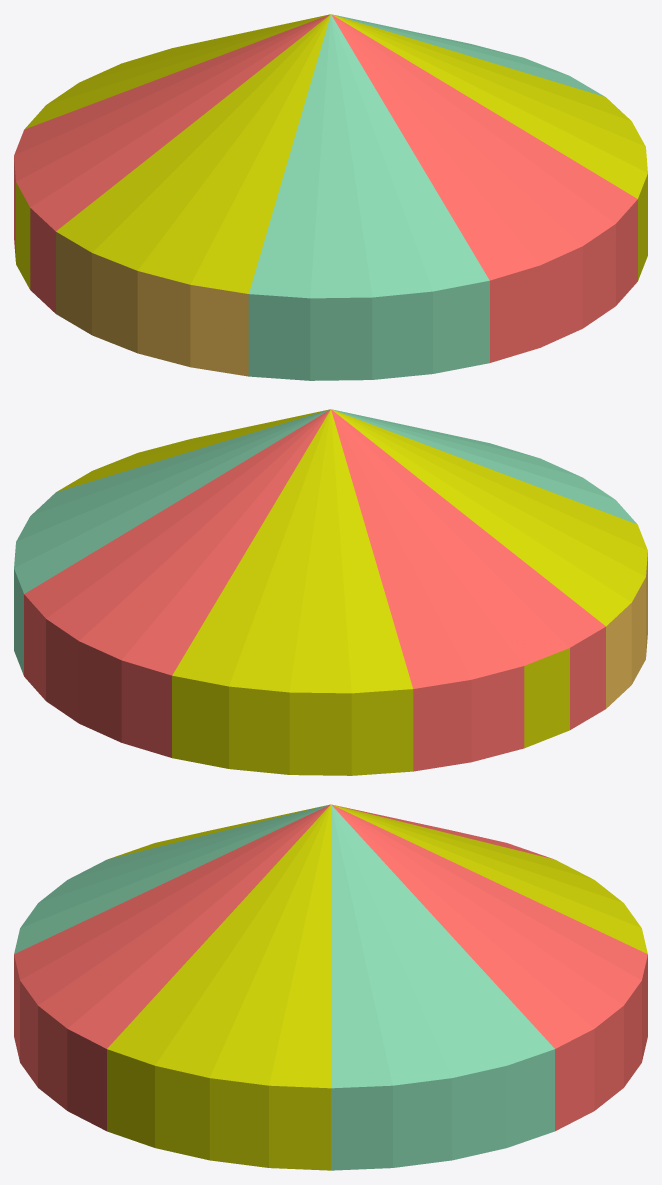
3 renders of one model, top to bottom at view 1: azimuth 30°, elevation 25°; view 2: azimuth 150°, elevation 25°; view 3: azimuth 270°, elevation 25°, orthographic.
Visible parts, largest first — view 1: Cylinder; view 2: Cylinder; view 3: Cylinder.
Part boxes in pixels (x1,y1,x2,y2): Cylinder: (14,14,647,380); Cylinder: (14,409,647,775); Cylinder: (14,804,647,1170).
Size of the model in its own units: 600 by 243 by 600.
